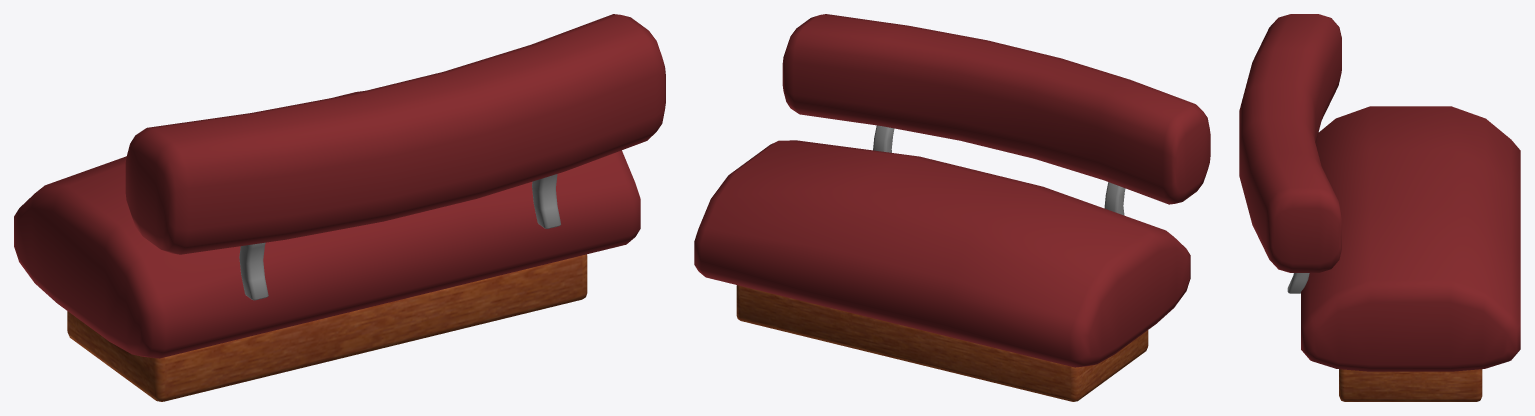
The model's file is Sofa_Straight.glb.
The picture shows the model from 3 angles, left to right: view 1: azimuth 30°, elevation 25°; view 2: azimuth 150°, elevation 25°; view 3: azimuth 270°, elevation 25°; orthographic projection. The views are drawn at different scales.
Parts seen in each view (by area): view 1: Cube.002, Cube, Cube.005, Cube.003, Cube.004; view 2: Cube, Cube.002, Cube.005, Cube.003, Cube.004; view 3: Cube, Cube.002, Cube.005, Cube.004.
Part boxes in pixels (bbox=[...]): Cube.002: bbox=[125, 14, 665, 254]; Cube: bbox=[14, 91, 640, 358]; Cube.005: bbox=[67, 254, 587, 401]; Cube.003: bbox=[239, 242, 268, 300]; Cube.004: bbox=[532, 174, 560, 228]; Cube: bbox=[694, 140, 1190, 367]; Cube.002: bbox=[782, 14, 1210, 204]; Cube.005: bbox=[736, 285, 1148, 401]; Cube.003: bbox=[1104, 182, 1125, 215]; Cube.004: bbox=[873, 125, 894, 152]; Cube: bbox=[1301, 106, 1520, 371]; Cube.002: bbox=[1239, 14, 1341, 272]; Cube.005: bbox=[1339, 369, 1482, 401]; Cube.004: bbox=[1287, 273, 1309, 293].
Size of the model in its own units: 2 by 1.12 by 1.28.
Materials: 1 (1 with a texture image).
